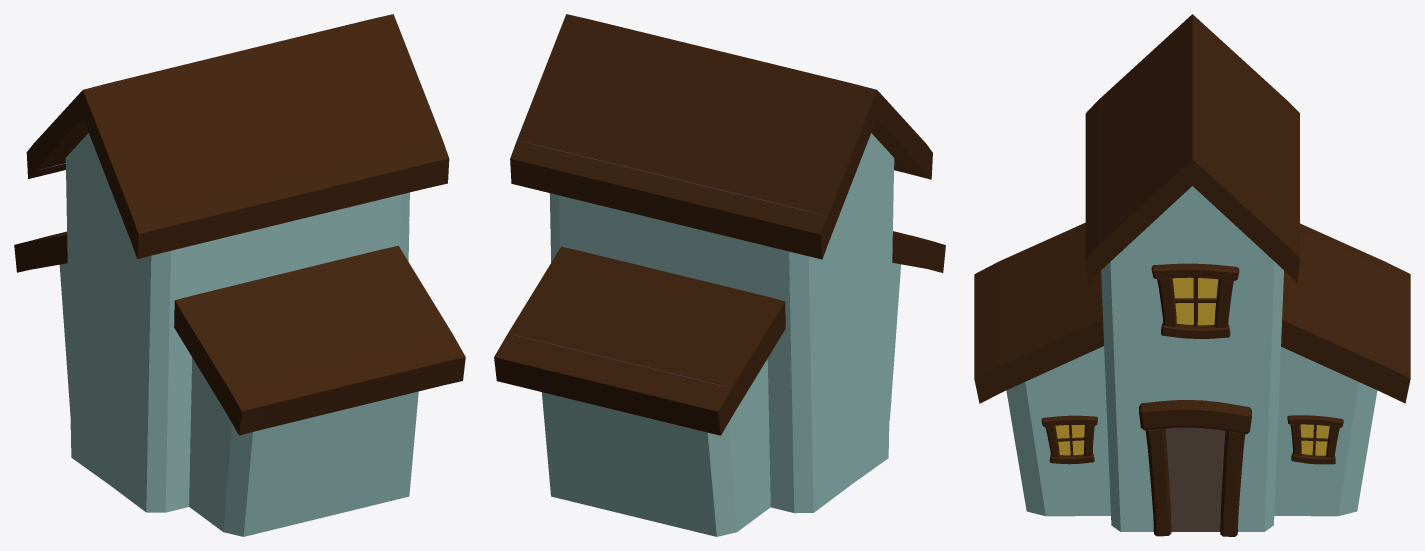
File: house.fbx
The picture shows the model from 3 angles, left to right: view 1: azimuth 30°, elevation 25°; view 2: azimuth 150°, elevation 25°; view 3: azimuth 270°, elevation 25°; orthographic projection. The views are drawn at different scales.
Visible parts, largest first — view 1: Cube.001; view 2: Cube.001; view 3: Cube.001.
Part boxes in pixels (x1=…): Cube.001: x1=14, y1=14, x2=465, y2=536; Cube.001: x1=494, y1=14, x2=945, y2=536; Cube.001: x1=974, y1=14, x2=1410, y2=536.
Size of the model in its own units: 240 by 298 by 305.
